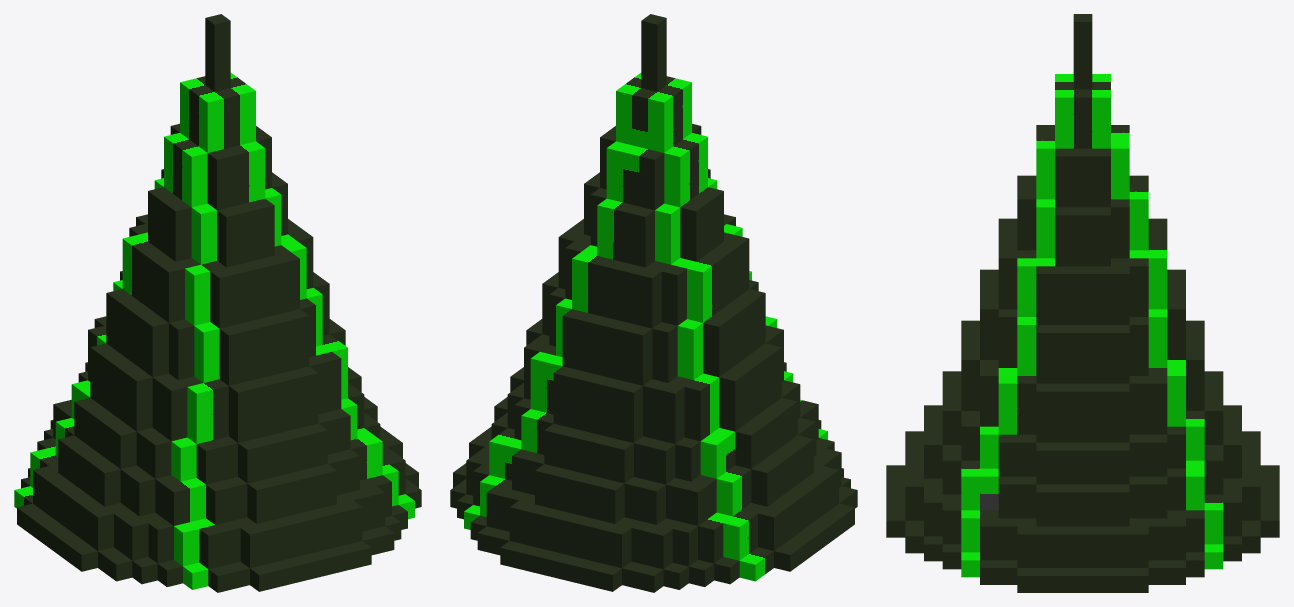
File: Stalagmite.dae
3 renders of one model, left to right at view 1: azimuth 30°, elevation 25°; view 2: azimuth 150°, elevation 25°; view 3: azimuth 270°, elevation 25°, orthographic.
Parts seen in each view (by area): view 1: stalagmite.merged; view 2: stalagmite.merged; view 3: stalagmite.merged.
Part boxes in pixels (x1,y1,x2,y2): stalagmite.merged: [14, 14, 421, 592]; stalagmite.merged: [450, 14, 857, 592]; stalagmite.merged: [886, 14, 1279, 592].
Bounding box in the file's own units: 2.1 × 2.9 × 2.1.
Materials: 1 (1 with a texture image).
